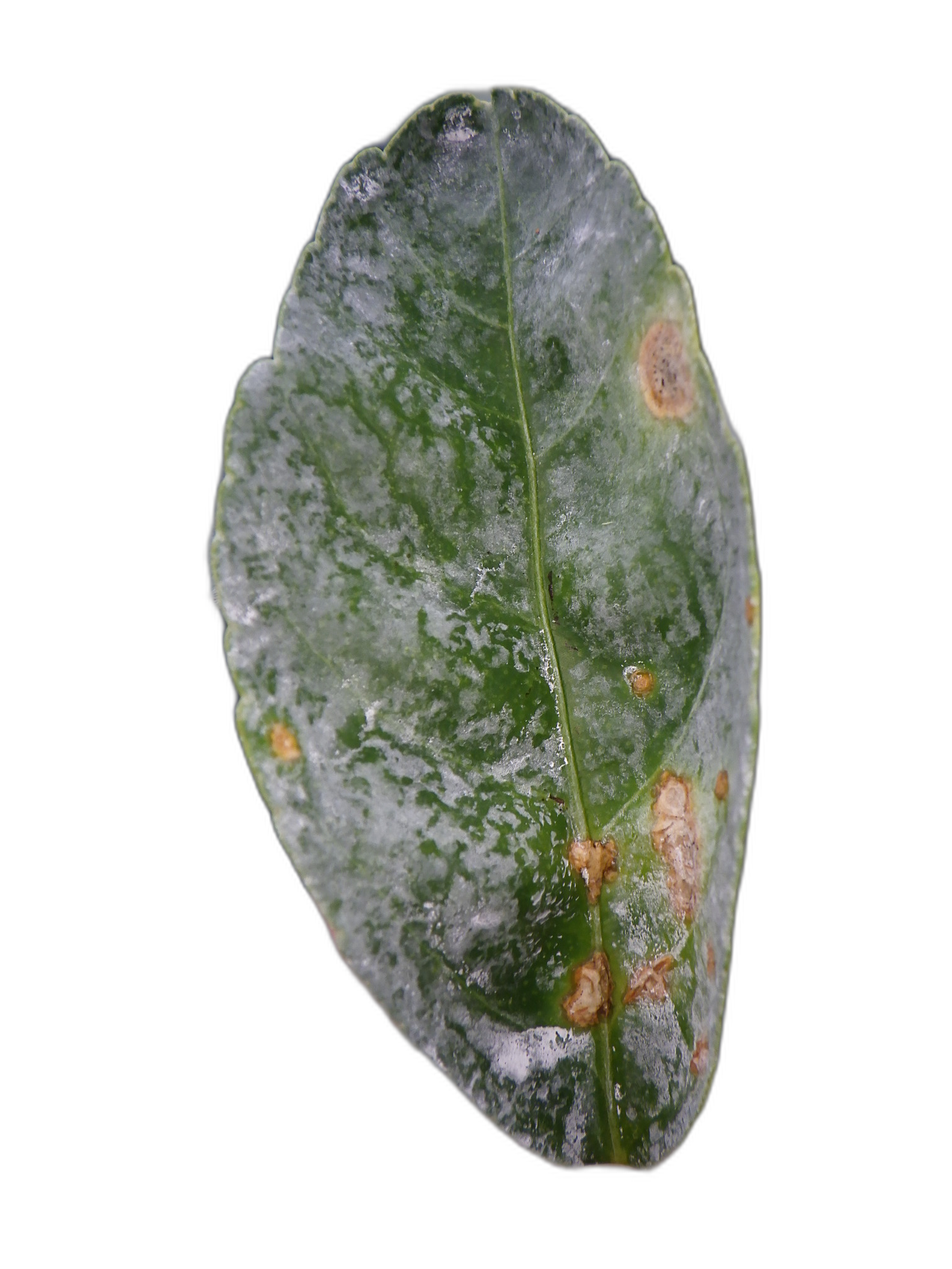Canker: (650, 771, 699, 922), (638, 322, 693, 419), (566, 833, 625, 908), (563, 952, 612, 1026), (621, 952, 679, 1011), (267, 719, 304, 759), (710, 767, 733, 802), (630, 669, 656, 696)
